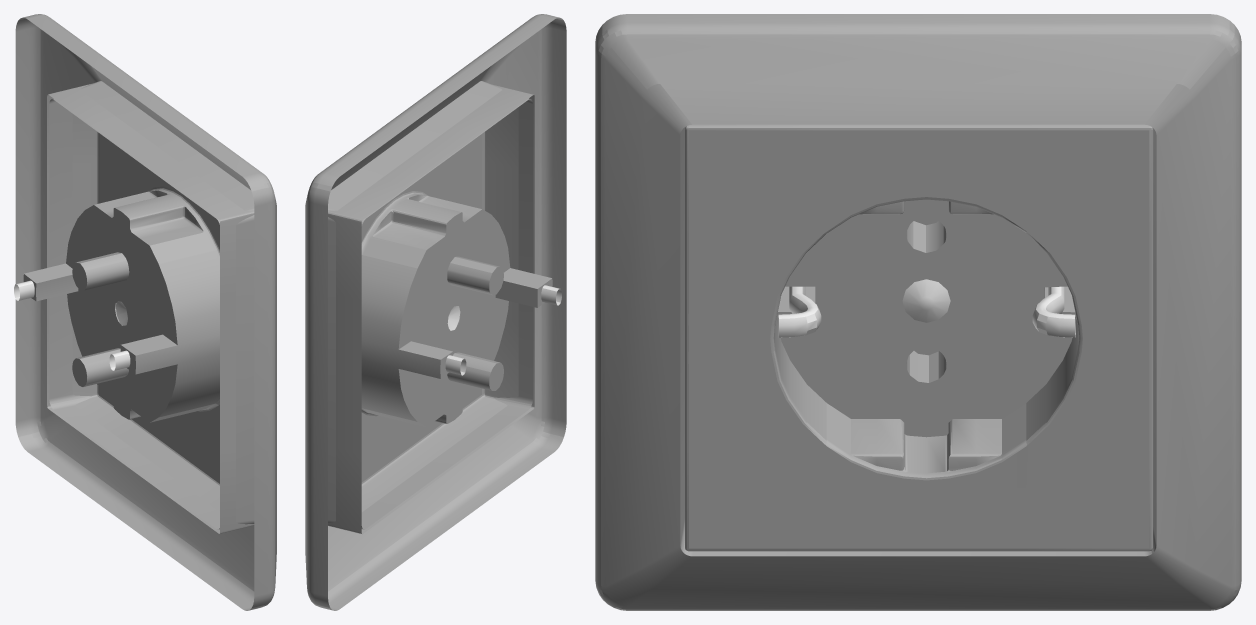
Rendered from SM_Socket_026.obj.
The picture shows the model from 3 angles, left to right: view 1: azimuth 30°, elevation 25°; view 2: azimuth 150°, elevation 25°; view 3: azimuth 270°, elevation 25°; orthographic projection. The views are drawn at different scales.
Visible parts, largest first — view 1: SM_Socket_026; view 2: SM_Socket_026; view 3: SM_Socket_026.
Part boxes in pixels (x1,y1,x2,y2): SM_Socket_026: (14, 14, 276, 610); SM_Socket_026: (305, 14, 566, 610); SM_Socket_026: (595, 14, 1241, 610).
Bounding box in the file's own units: 0.023 × 0.0805 × 0.0805.
2 materials, 1 textured.
